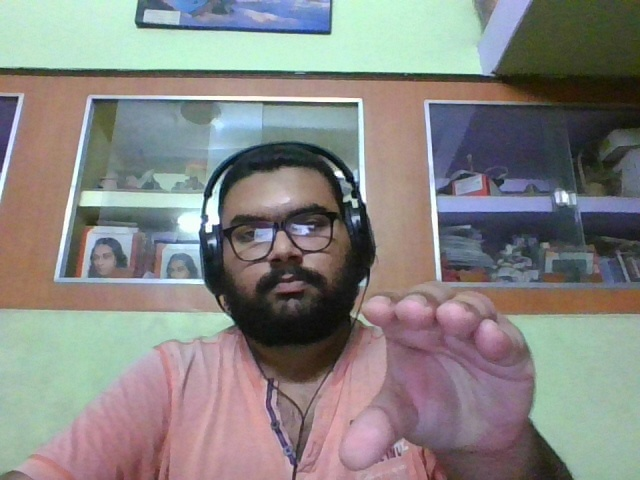no: (339, 285, 543, 472)
